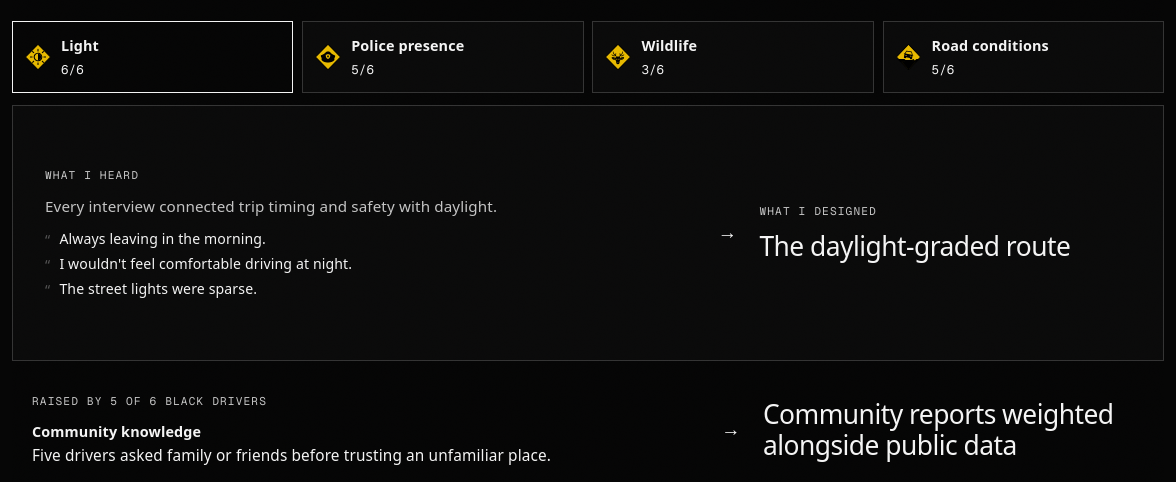
Scenario: Fresh Greens research synthesis › connects an interview signal to its product response
Check: the text "The daylight-graded route" is shown, box [759,228,1070,264]
Click the tab with aria-label "Police presence, 5 of 6".
click(443, 57)  # box [302,21,584,93]
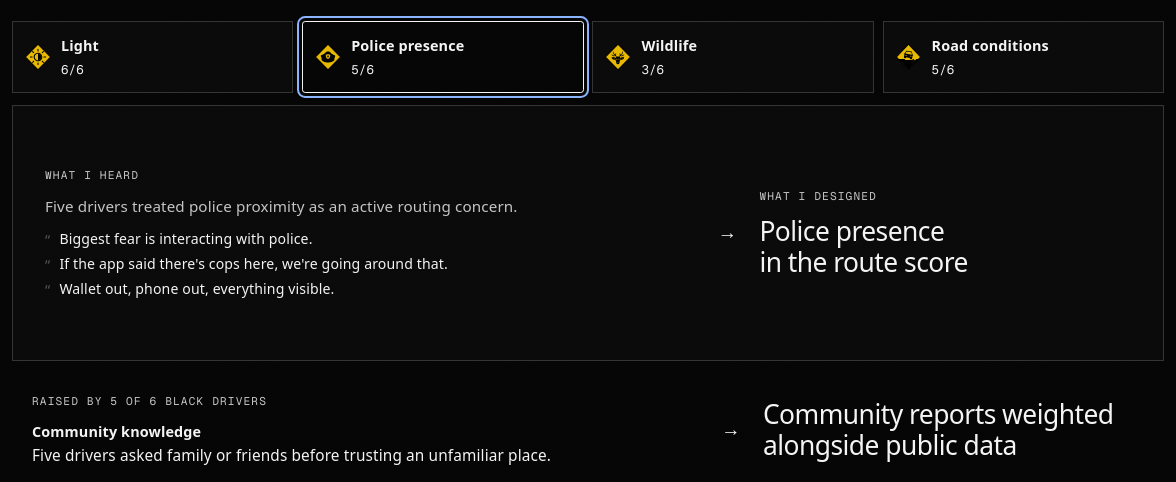
Check: the text "Raised by 5 of 6 Black drivers" is shown, box [32,394,267,408]
Check: the text "Police presence in the route score" is shown, box [759,213,968,280]
Check: the text "The daylight-graded route" is gone
